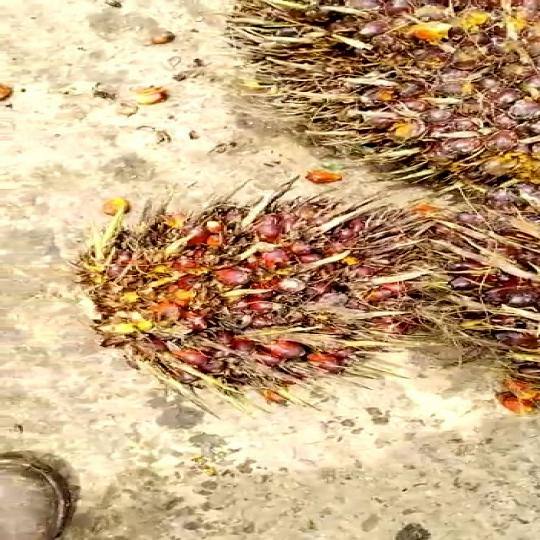masak: (59, 191, 540, 410), (219, 0, 540, 208)
